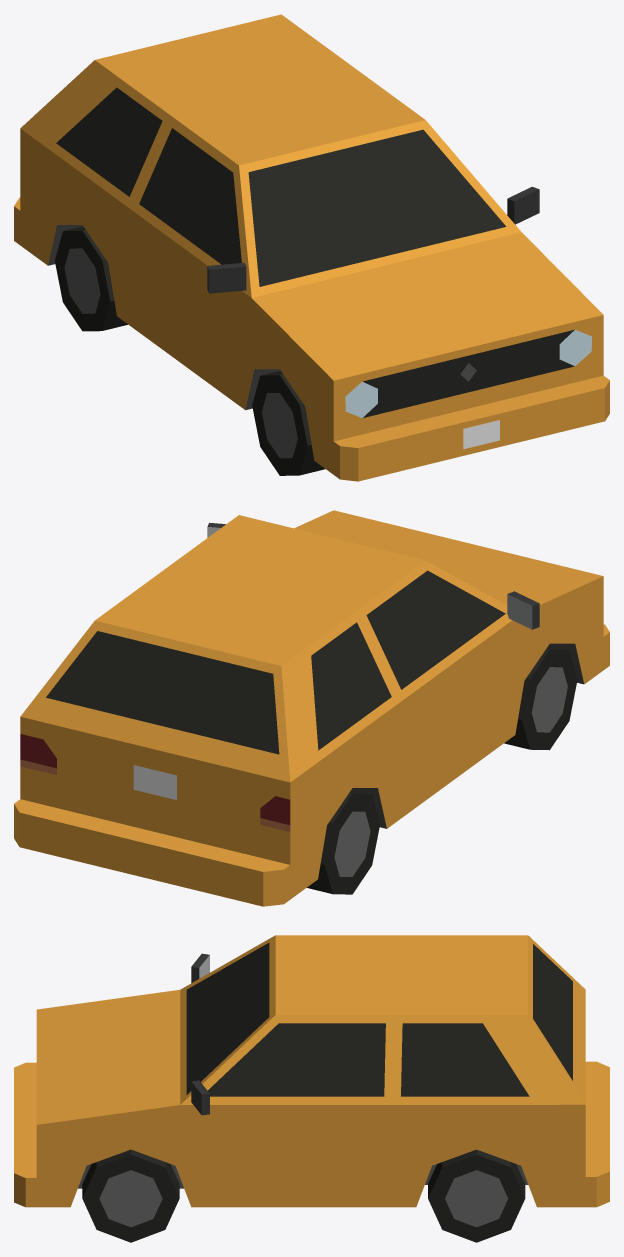
Rendered from Veh_Coupe_02_Yellow.obj.
3 views of the same model, one above another, from view 1: azimuth 30°, elevation 25°; view 2: azimuth 150°, elevation 25°; view 3: azimuth 270°, elevation 25° (orthographic). The views are drawn at different scales.
Size of the model in its own units: 1.12 by 0.78 by 2.01.
